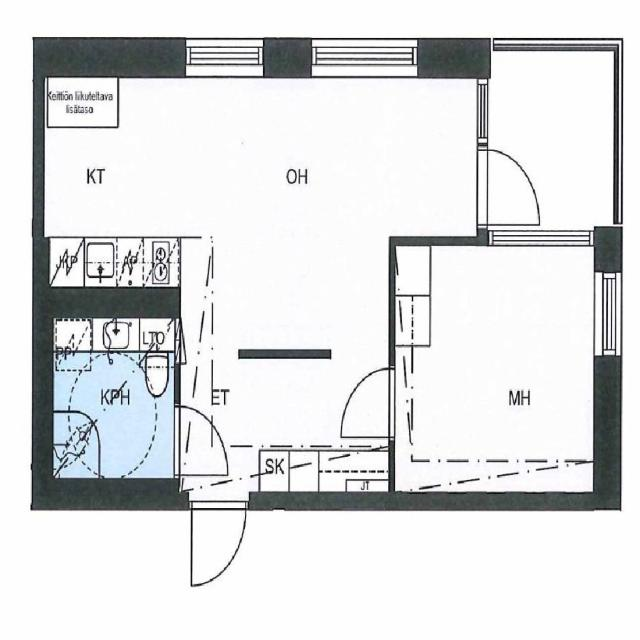door: (476, 150, 540, 223), (192, 501, 246, 586), (173, 405, 228, 474), (340, 368, 394, 437)
